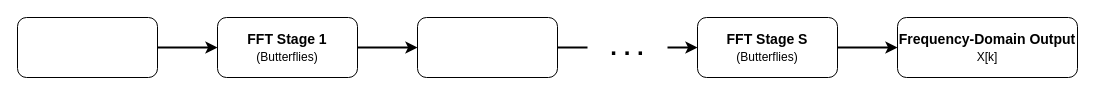
The diagram is 1095 pixels wide and 95 high, and some of its shapes have lost their labels. Each missing label, with the centre of its shape:
"FFT Stage 2 (Butterflies)" belongs at pixel 487 47.
"Input Samples x[n]" belongs at pixel 87 47.
